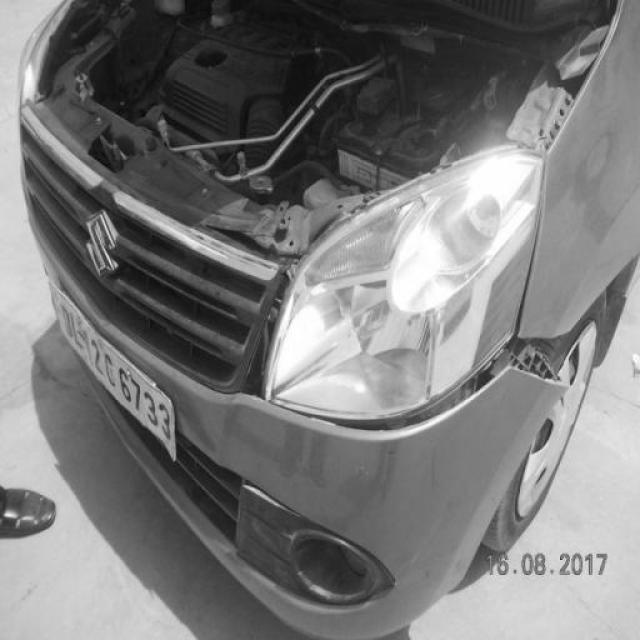tear: (265, 336, 573, 436)
